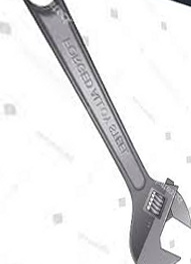Wrench: (21, 1, 191, 264)
